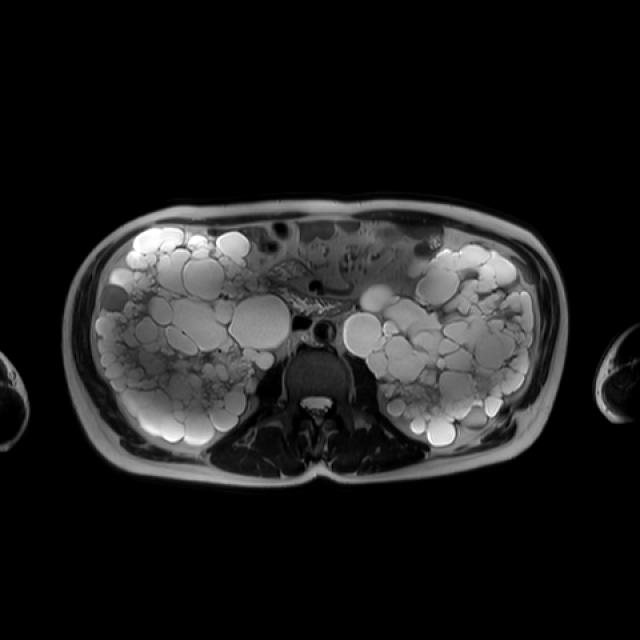sag: (94, 224, 294, 447)
sol: (342, 241, 535, 449)
